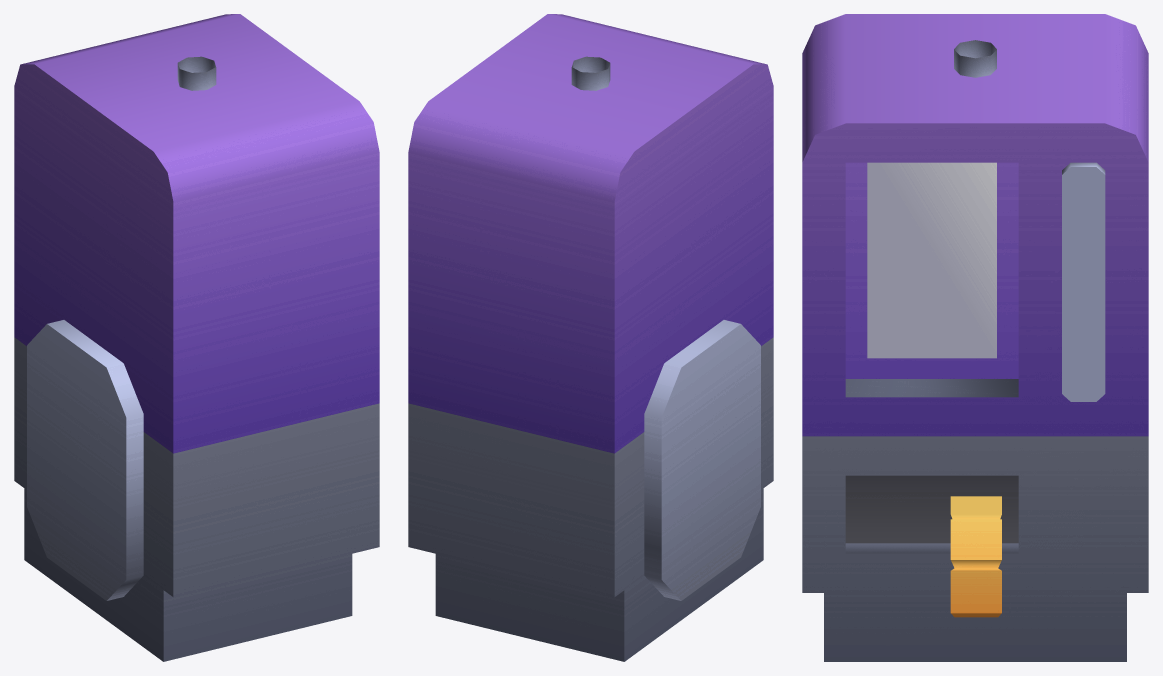
The model's file is ticket-machine.002_lev2.glb.
The picture shows the model from 3 angles, left to right: view 1: azimuth 30°, elevation 25°; view 2: azimuth 150°, elevation 25°; view 3: azimuth 270°, elevation 25°; orthographic projection. The views are drawn at different scales.
Visible parts, largest first — view 1: ticket-machine.002_lev2; view 2: ticket-machine.002_lev2; view 3: ticket-machine.002_lev2.
Boxes of the visible parts, x1,y1,x2,y2 form: ticket-machine.002_lev2: [14, 14, 379, 661]; ticket-machine.002_lev2: [408, 14, 773, 661]; ticket-machine.002_lev2: [802, 14, 1148, 661].
Bounding box in the file's own units: 1.58 × 2.9 × 1.6.
Materials: 1 (1 with a texture image).
